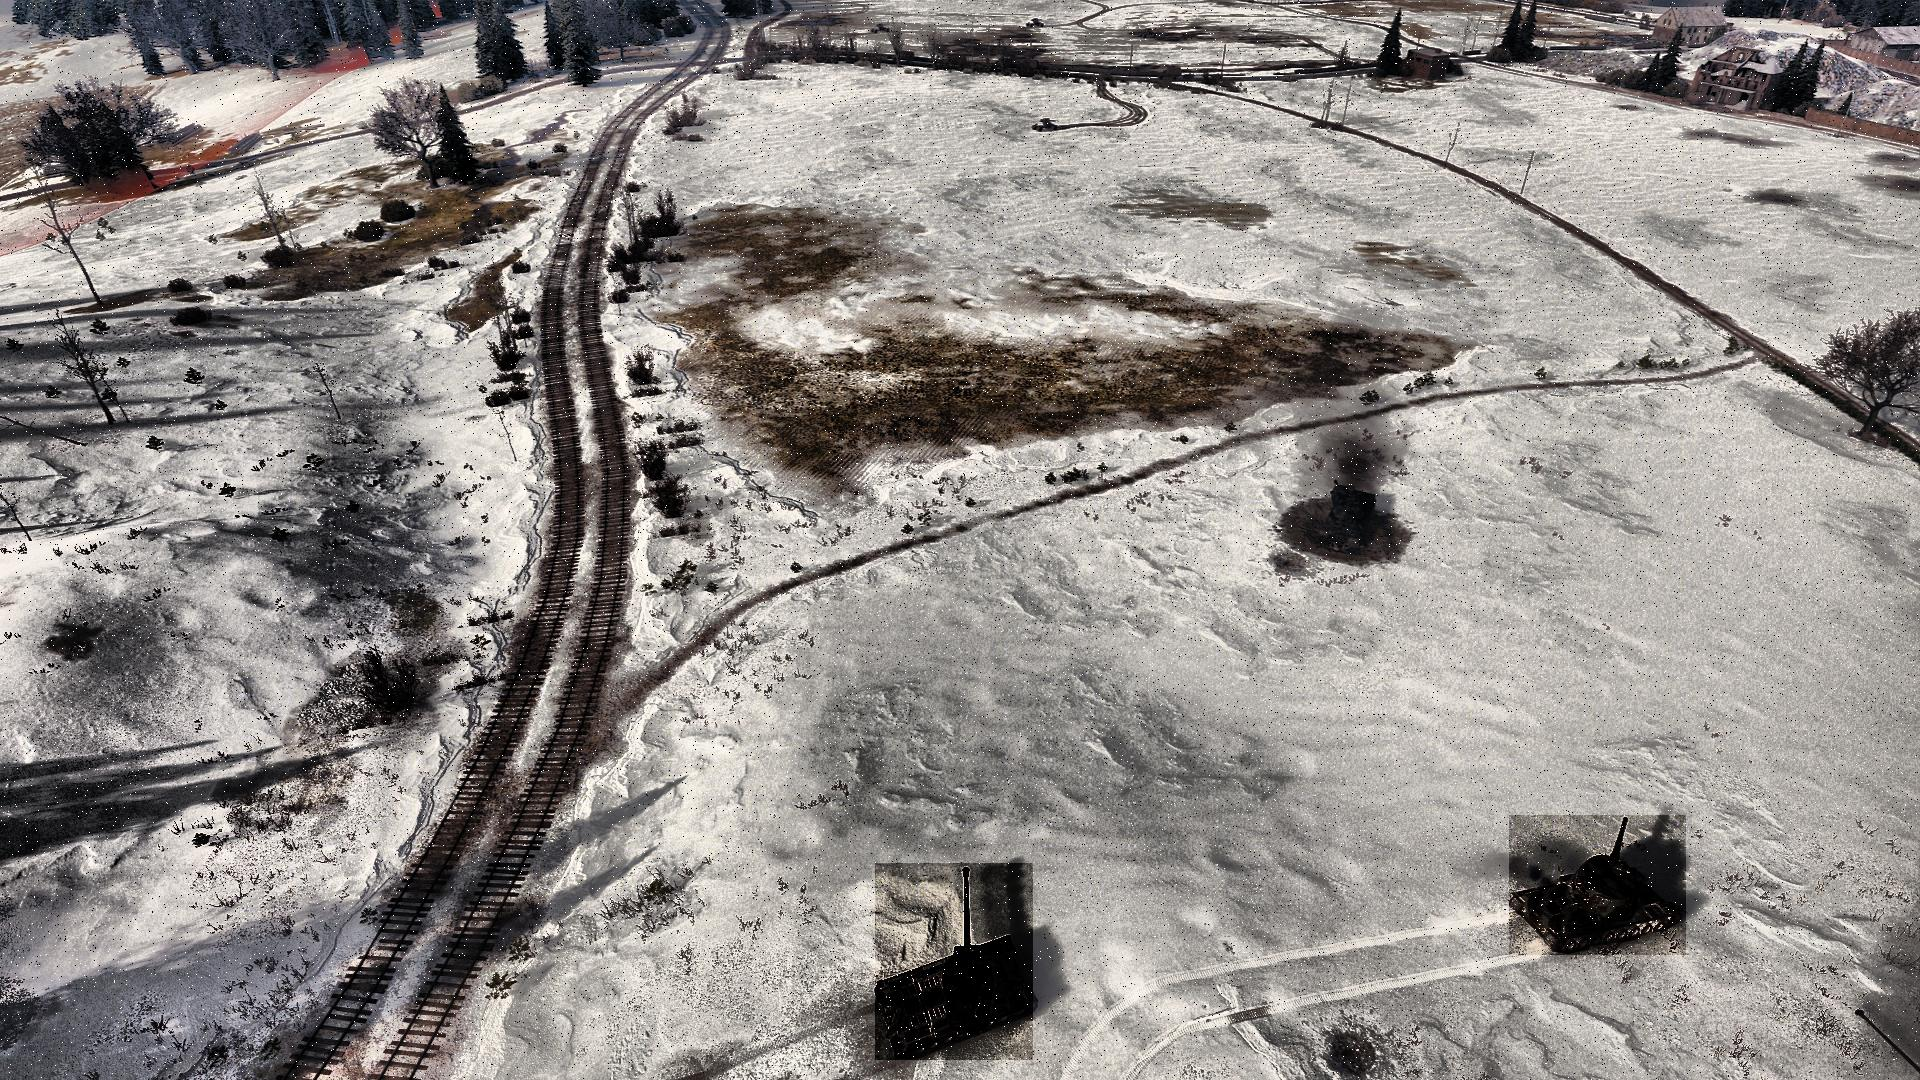military-vehicle: (876, 864, 1034, 1060), (1510, 815, 1687, 955)
